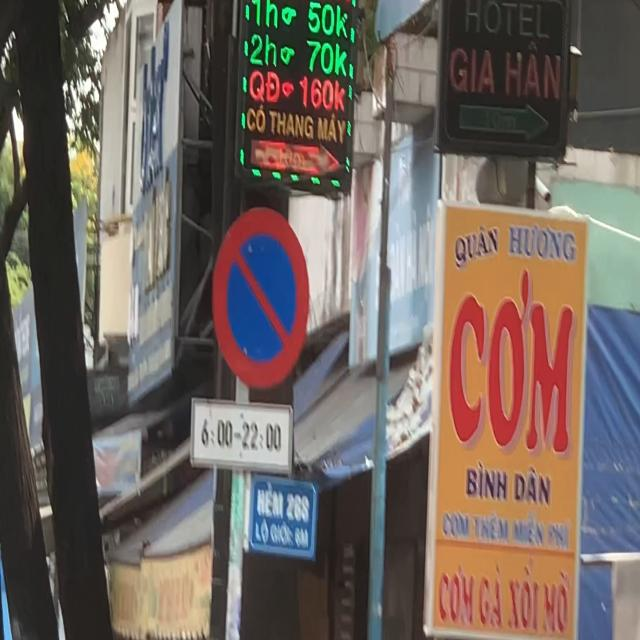Cam do: (211, 207, 311, 390)
